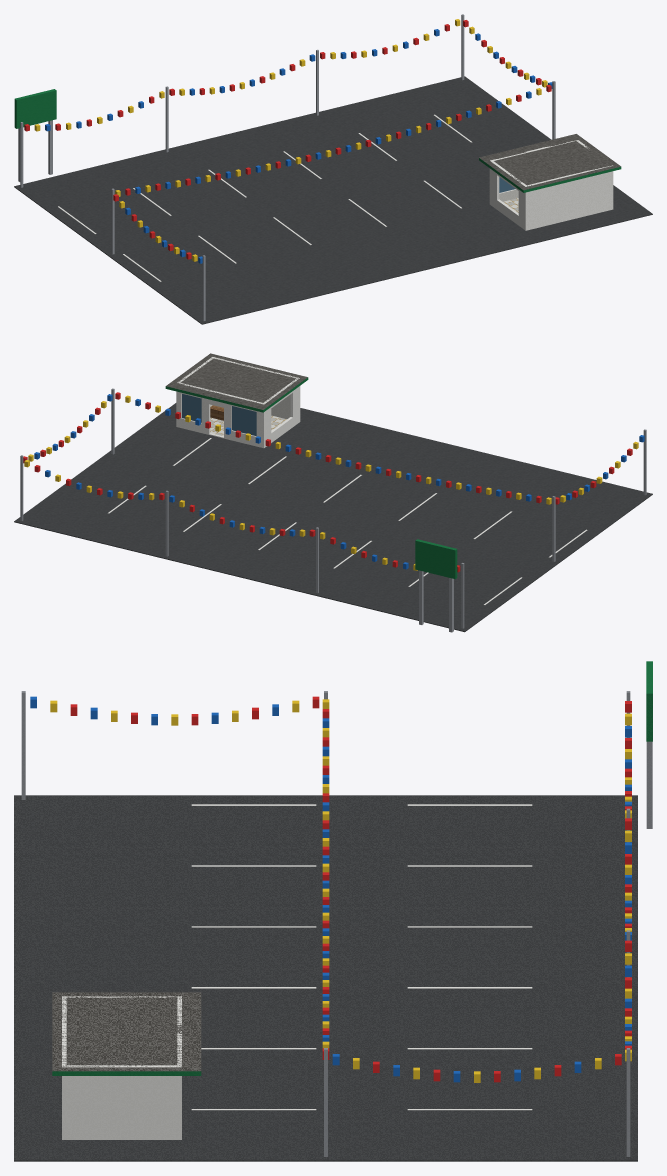
File: car_lot.glb
3 views of the same model, one above another, from view 1: azimuth 30°, elevation 25°; view 2: azimuth 150°, elevation 25°; view 3: azimuth 270°, elevation 25° (orthographic). The views are drawn at different scales.
Parts seen in each view (by area): view 1: car_lot; view 2: car_lot; view 3: car_lot.
Boxes of the visible parts, x1,y1,x2,y2 form: car_lot: (14, 14, 652, 324); car_lot: (14, 353, 652, 632); car_lot: (14, 661, 652, 1161).
Bounding box in the file's own units: 36 × 6.4 × 26.62.
13 materials, 13 textured.
